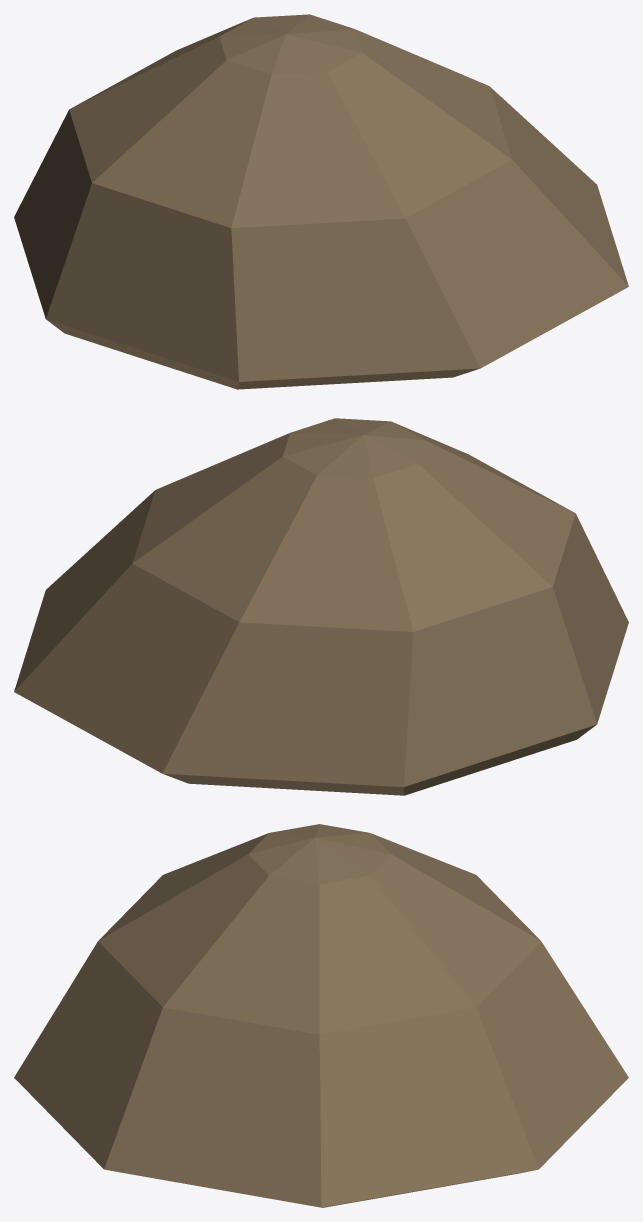
File: basic_lamp.glb
3 views of the same model, one above another, from view 1: azimuth 30°, elevation 25°; view 2: azimuth 150°, elevation 25°; view 3: azimuth 270°, elevation 25° (orthographic). The views are drawn at different scales.
Visible parts, largest first — view 1: Circle; view 2: Circle; view 3: Circle.
Part boxes in pixels (left/top/right/bottom): Circle: left=14, top=14, right=628, bottom=389; Circle: left=14, top=418, right=628, bottom=795; Circle: left=14, top=824, right=628, bottom=1207.
Bounding box in the file's own units: 2 × 0.8631 × 2.
